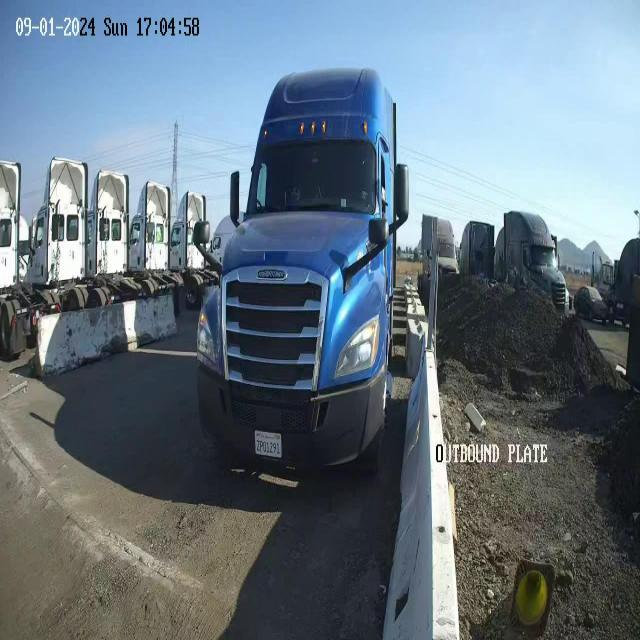TRUCK_OUT: (194, 65, 409, 475)
